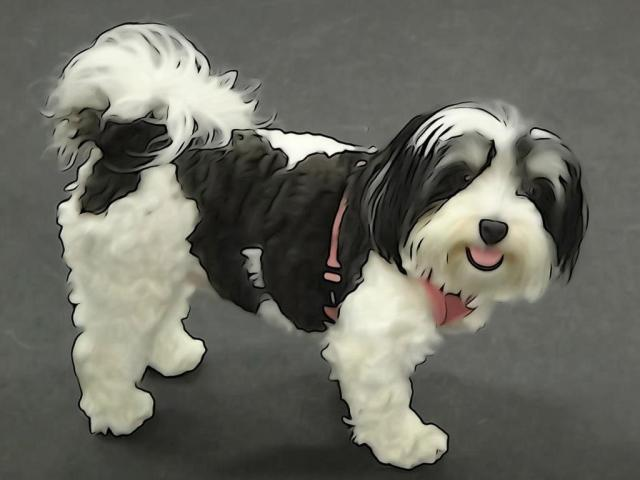Dog: (44, 18, 592, 465)
